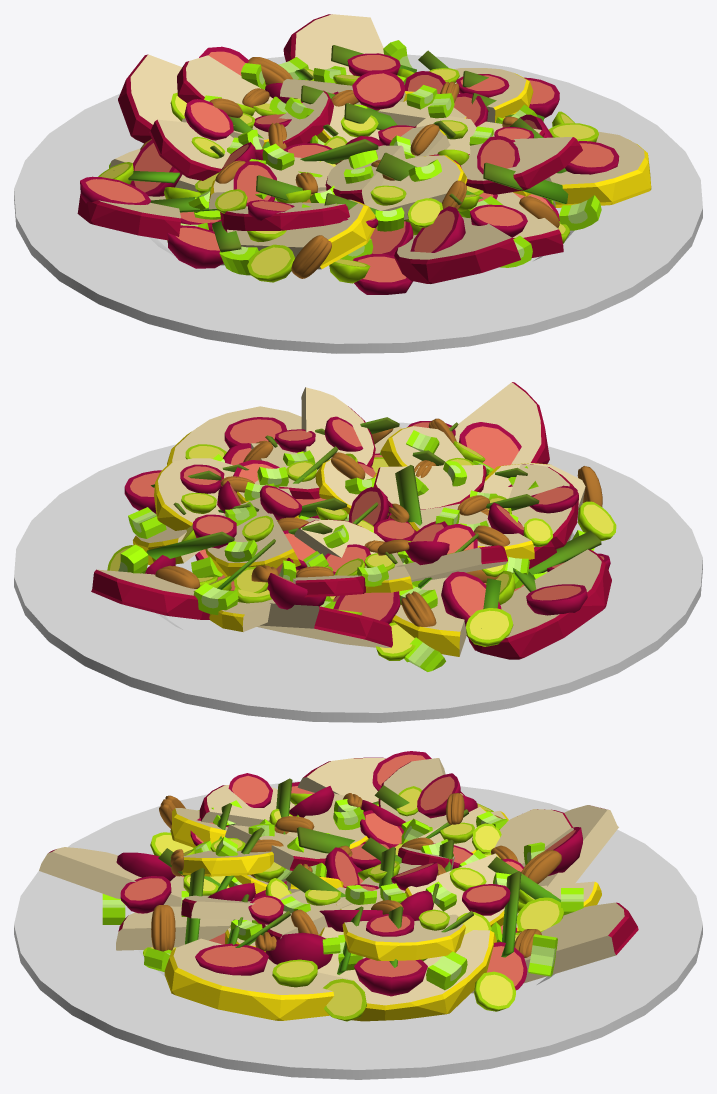
Rendered from Ensalada Final.fbx.
3 renders of one model, top to bottom at view 1: azimuth 30°, elevation 25°; view 2: azimuth 150°, elevation 25°; view 3: azimuth 270°, elevation 25°, orthographic.
Visible parts, largest first — view 1: Ensalada Entera, PlatoDeServicio; view 2: Ensalada Entera, PlatoDeServicio; view 3: Ensalada Entera, PlatoDeServicio.
Part boxes in pixels (x1,y1,x2,y2): Ensalada Entera: (77, 14, 651, 294); PlatoDeServicio: (14, 54, 702, 353); Ensalada Entera: (91, 382, 616, 671); PlatoDeServicio: (14, 422, 702, 722); Ensalada Entera: (39, 751, 638, 1021); PlatoDeServicio: (14, 781, 702, 1079).
Bounding box in the file's own units: 29.11 × 5.29 × 29.11.
Materials: 11 (1 with a texture image).
